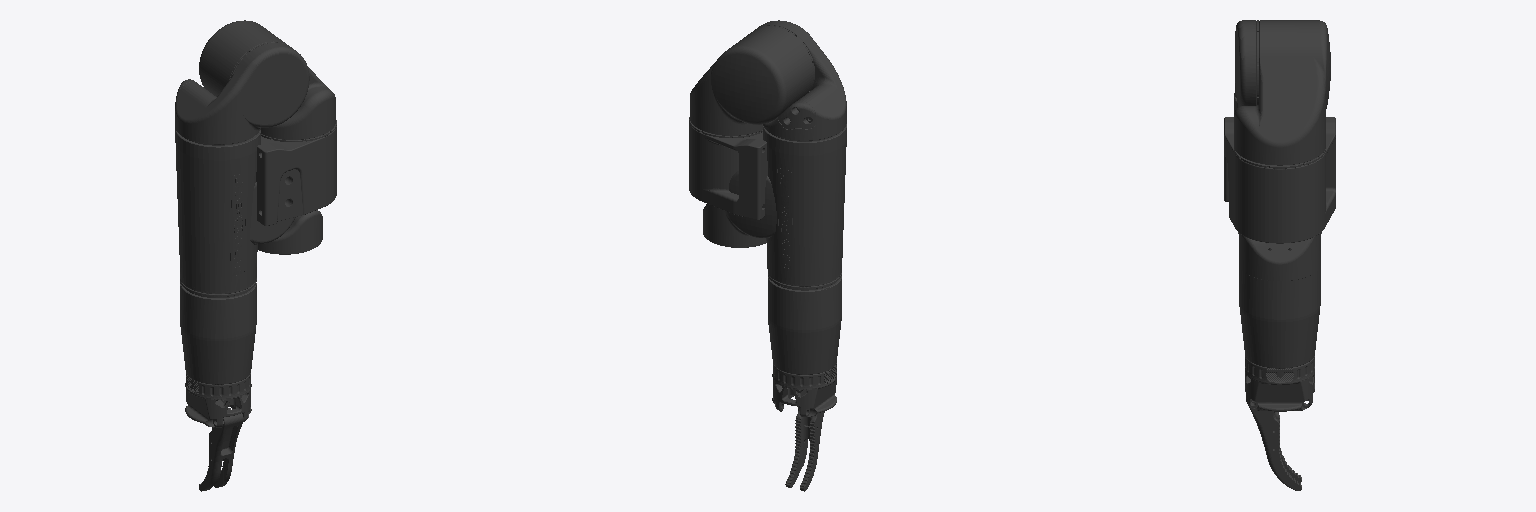
The robot description file, URDF, robot "bravo_7_example":
<?xml version="1.0" ?>
<!-- =================================================================================== -->
<!-- |    This document was autogenerated by xacro from bravo_7_example.urdf.xacro     | -->
<!-- |    EDITING THIS FILE BY HAND IS NOT RECOMMENDED                                 | -->
<!-- =================================================================================== -->
<robot name="bravo_7_example">
  <link name="base_link"/>
  <joint name="bravo_joint" type="fixed">
    <origin rpy="0 0 0" xyz="0 0 0"/>
    <parent link="base_link"/>
    <child link="bravo_base_link"/>
    <origin rpy="0 0 0" xyz="0 0 0"/>
  </joint>
  <material name="bravo_black">
    <color rgba="0.3 0.3 0.3 1"/>
  </material>
  <link name="bravo_base_link">
    <visual>
      <geometry>
        <mesh filename="package://bpl_bravo_description_mk2/meshes/1019 A.stl"/>
      </geometry>
      <material name="bravo_black"/>
    </visual>
    <collision>
      <geometry>
        <box size="0.0625 0.1112 0.088"/>
      </geometry>
      <origin rpy="0 0 0" xyz="0.03625 00 0.044"/>
    </collision>
    <collision>
      <geometry>
        <box size="0.050 0.080 0.060"/>
      </geometry>
      <origin rpy="0 0 0" xyz="0.025 -0.04556 0.03"/>
    </collision>
    <collision>
      <geometry>
        <cylinder length="0.0851" radius="0.046"/>
      </geometry>
      <origin rpy="0 0 0" xyz="0.0675 0 0.04255"/>
    </collision>
  </link>
  <joint name="bravo_axis_g" type="continuous">
    <parent link="bravo_base_link"/>
    <origin rpy="0 0 3.14159" xyz="0.0665 0 0.08"/>
    <axis xyz="0 0 -1"/>
    <child link="bravo_1019_end_link"/>
    <!-- <limit effort="0" velocity="0" lower="0.0" upper="6.3" /> -->
  </joint>
  <link name="bravo_1019_end_link">
    <visual>
      <geometry>
        <mesh filename="package://bpl_bravo_description_mk2/meshes/1019 B.stl"/>
      </geometry>
      <origin rpy="0 0 3.14159" xyz="0 0 0"/>
      <material name="bravo_black"/>
    </visual>
  </link>
  <joint name="bravo_f_base_joint" type="fixed">
    <parent link="bravo_1019_end_link"/>
    <origin rpy="0 0 0" xyz="0 0 0.0058"/>
    <child link="bravo_1013_base_link"/>
  </joint>
  <link name="bravo_1013_base_link">
    <visual>
      <geometry>
        <mesh filename="package://bpl_bravo_description_mk2/meshes/1013 A.stl"/>
      </geometry>
      <origin rpy="0 0 3.14159" xyz="0.0 00 0.0"/>
      <material name="bravo_black"/>
    </visual>
    <collision>
      <geometry>
        <cylinder length="0.0667" radius="0.046"/>
      </geometry>
      <origin rpy="0 0 0" xyz="0.0 0.0 0.03335"/>
    </collision>
    <collision>
      <geometry>
        <cylinder length="0.0738" radius="0.046"/>
      </geometry>
      <origin rpy="1.5707 0 0 " xyz="0.046 0.0149 0.0667"/>
    </collision>
  </link>
  <joint name="bravo_axis_f" type="revolute">
    <parent link="bravo_1013_base_link"/>
    <origin rpy="0 0 0" xyz="0.046 0 0.0667"/>
    <axis xyz="0 -1 0"/>
    <child link="bravo_1013_joint_link"/>
    <limit effort="0" lower="0.0" upper="3.2" velocity="0"/>
  </joint>
  <link name="bravo_1013_joint_link">
    <visual>
      <geometry>
        <mesh filename="package://bpl_bravo_description_mk2/meshes/1013 B.stl"/>
      </geometry>
      <material name="bravo_black"/>
      <origin rpy="0 0 3.14159" xyz="0.0 00 0.0"/>
    </visual>
    <collision>
      <geometry>
        <cylinder length="0.0228" radius="0.046"/>
      </geometry>
      <origin rpy="1.5707 0 0 " xyz="0 -0.0334 0"/>
    </collision>
    <collision>
      <geometry>
        <cylinder length="0.05094" radius="0.046"/>
      </geometry>
      <origin rpy="0 0 0" xyz="0.046 0 -0.02547"/>
    </collision>
  </link>
  <joint name="bravo_1013_end_joint" type="fixed">
    <parent link="bravo_1013_joint_link"/>
    <origin rpy="3.14159 0 3.14159" xyz="0.046 0 -0.05334"/>
    <child link="bravo_1013_end_link"/>
  </joint>
  <link name="bravo_1013_end_link"/>
  <joint name="bravo_e_base_joint" type="fixed">
    <parent link="bravo_1013_end_link"/>
    <origin rpy="0 0 0" xyz="0 0 0.182"/>
    <child link="bravo_1026_0_base_link"/>
  </joint>
  <link name="bravo_1026_0_base_link">
    <visual>
      <geometry>
        <mesh filename="package://bpl_bravo_description_mk2/meshes/RS2-1026-A.stl"/>
      </geometry>
      <material name="bravo_black"/>
    </visual>
    <collision>
      <geometry>
        <cylinder length="0.059" radius="0.0408"/>
      </geometry>
      <origin rpy="0 0 0" xyz="0 00 0.0295"/>
    </collision>
    <collision>
      <geometry>
        <cylinder length="0.0599" radius="0.0408"/>
      </geometry>
      <origin rpy="1.5707 0 0" xyz="0.0408 -0.01435 0.059"/>
    </collision>
  </link>
  <joint name="bravo_axis_e" type="revolute">
    <parent link="bravo_1026_0_base_link"/>
    <origin rpy="0 0 0" xyz="0.0408 0 0.059"/>
    <axis xyz="0 -1 0"/>
    <child link="bravo_1026_0_joint_link"/>
    <limit effort="0" lower="0.0" upper="3.2" velocity="0"/>
  </joint>
  <link name="bravo_1026_0_joint_link">
    <visual>
      <geometry>
        <mesh filename="package://bpl_bravo_description_mk2/meshes/RS2-1026-B.stl"/>
      </geometry>
      <material name="bravo_black"/>
    </visual>
    <collision>
      <geometry>
        <cylinder length="0.02335" radius="0.0408"/>
      </geometry>
      <origin rpy="1.5707 0 0" xyz="0 0.027275 0 "/>
    </collision>
    <collision>
      <geometry>
        <cylinder length="0.0851" radius="0.0408"/>
      </geometry>
      <origin rpy="0 0 0" xyz="0.0408 0 -0.0473"/>
    </collision>
  </link>
  <joint name="bravo_1026_0_end_joint" type="fixed">
    <parent link="bravo_1026_0_joint_link"/>
    <origin rpy="3.14159 0 0" xyz="0.0408 0 -0.08705"/>
    <child link="bravo_1026_0_end_link"/>
  </joint>
  <link name="bravo_1026_0_end_link"/>
  <joint name="bravo_d_base_joint" type="fixed">
    <parent link="bravo_1026_0_end_link"/>
    <origin rpy="0 0 0" xyz="0 0 0"/>
    <child link="bravo_1026_1_base_link"/>
  </joint>
  <link name="bravo_1026_1_base_link">
        </link>
  <joint name="bravo_axis_d" type="continuous">
    <parent link="bravo_1026_1_base_link"/>
    <origin rpy="0 0 0" xyz="0 0 0"/>
    <axis xyz="0 0 -1"/>
    <child link="bravo_1026_1_joint_link"/>
    <!-- <limit effort="0" velocity="0" lower="0" upper="6.2" /> -->
  </joint>
  <link name="bravo_1026_1_joint_link">
    <visual>
      <geometry>
        <mesh filename="package://bpl_bravo_description_mk2/meshes/RS2-1026-C.stl"/>
      </geometry>
      <material name="bravo_black"/>
      <origin rpy="0 0 0" xyz="0 0 0 "/>
    </visual>
    <collision>
      <geometry>
        <cylinder length="0.003" radius="0.0408"/>
      </geometry>
      <origin rpy="0 0 3.14159" xyz="0 0 0.000"/>
    </collision>
  </link>
  <joint name="bravo_1026_1_end_joint" type="fixed">
    <parent link="bravo_1026_1_joint_link"/>
    <origin rpy="0 0 3.14159" xyz="0 0 0.0054"/>
    <child link="bravo_1026_1_end_link"/>
  </joint>
  <link name="bravo_1026_1_end_link"/>
  <joint name="bravo_c_base_joint" type="fixed">
    <parent link="bravo_1026_1_end_link"/>
    <origin rpy="0 0 0" xyz="0 0 0.0"/>
    <child link="bravo_1023_0_base_link"/>
  </joint>
  <link name="bravo_1023_0_base_link">
    <visual>
      <geometry>
        <mesh filename="package://bpl_bravo_description_mk2/meshes/RS2-1023-A.stl"/>
      </geometry>
      <material name="bravo_black"/>
    </visual>
    <collision>
      <geometry>
        <cylinder length="0.059" radius="0.0408"/>
      </geometry>
      <origin rpy="0 0 0" xyz="0 00 0.0295"/>
    </collision>
    <collision>
      <geometry>
        <cylinder length="0.0599" radius="0.0408"/>
      </geometry>
      <origin rpy="1.5707 0 0" xyz="0.0408 -0.01435 0.059"/>
    </collision>
  </link>
  <joint name="bravo_axis_c" type="revolute">
    <parent link="bravo_1023_0_base_link"/>
    <origin rpy="0 0 0" xyz="0.0408 0 0.059"/>
    <axis xyz="0 -1 0"/>
    <child link="bravo_1023_0_joint_link"/>
    <limit effort="0" lower="0.0" upper="3.2" velocity="0"/>
  </joint>
  <link name="bravo_1023_0_joint_link">
    <visual>
      <geometry>
        <mesh filename="package://bpl_bravo_description_mk2/meshes/RS2-1023-B.stl"/>
      </geometry>
      <material name="bravo_black"/>
    </visual>
    <collision>
      <geometry>
        <cylinder length="0.02335" radius="0.0408"/>
      </geometry>
      <origin rpy="1.5707 0 0" xyz="0 0.027275 0 "/>
    </collision>
    <collision>
      <geometry>
        <cylinder length="0.0851" radius="0.0408"/>
      </geometry>
      <origin rpy="0 0 0" xyz="0.0408 0 -0.0473"/>
    </collision>
  </link>
  <joint name="bravo_1023_0_end_joint" type="fixed">
    <parent link="bravo_1023_0_joint_link"/>
    <origin rpy="3.14159 0 0" xyz="0.0408 0 -0.08705"/>
    <child link="bravo_1023_0_end_link"/>
  </joint>
  <link name="bravo_1023_0_end_link"/>
  <joint name="bravo_b_base_joint" type="fixed">
    <parent link="bravo_1023_0_end_link"/>
    <origin rpy="0 0 0" xyz="0 0 0"/>
    <child link="bravo_1023_1_base_link"/>
  </joint>
  <link name="bravo_1023_1_base_link">
        </link>
  <joint name="bravo_axis_b" type="continuous">
    <parent link="bravo_1023_1_base_link"/>
    <origin rpy="0 0 3.14159" xyz="0 0 0"/>
    <axis xyz="0 0 -1"/>
    <child link="bravo_1023_1_joint_link"/>
    <!--            <limit effort="0" velocity="0" lower="0.0" upper="0.0" />-->
  </joint>
  <link name="bravo_1023_1_joint_link">
    <visual>
      <geometry>
        <mesh filename="package://bpl_bravo_description_mk2/meshes/RS2-1023-C.stl"/>
      </geometry>
      <material name="bravo_black"/>
    </visual>
    <collision>
      <geometry>
        <cylinder length="0.003" radius="0.0408"/>
      </geometry>
      <origin rpy="0 0 0" xyz="0 0 0.0"/>
    </collision>
  </link>
  <joint name="bravo_1023_1_end_joint" type="fixed">
    <parent link="bravo_1023_1_joint_link"/>
    <origin rpy="0 0 0" xyz="0 0 0.0054"/>
    <child link="bravo_1023_1_end_link"/>
  </joint>
  <link name="bravo_1023_1_end_link"/>
  <joint name="bravo_a_base_joint" type="fixed">
    <parent link="bravo_1023_1_end_link"/>
    <origin rpy="0 0 0" xyz="0 0 0"/>
    <child link="bravo_1038_base_link"/>
  </joint>
  <link name="bravo_1038_base_link">
    <visual>
      <geometry>
        <mesh filename="package://bpl_bravo_description_mk2/meshes/1038.stl"/>
      </geometry>
      <material name="bravo_black"/>
    </visual>
    <collision>
      <geometry>
        <cylinder length="0.12535" radius="0.0408"/>
      </geometry>
      <origin rpy="0 0 0" xyz="0 0 0.06"/>
    </collision>
  </link>
  <joint name="bravo_1038_end_joint" type="fixed">
    <parent link="bravo_1038_base_link"/>
    <origin rpy="0 -1.5707 0" xyz="0 0 0.12535"/>
    <child link="bravo_1038_end_link"/>
  </joint>
  <link name="bravo_1038_end_link"/>
  <joint name="bravo_jaws_joint" type="fixed">
    <origin rpy="0 0 0" xyz=" 0 0 0.0"/>
    <parent link="bravo_1038_end_link"/>
    <child link="bravo_jaws_base_link"/>
  </joint>
  <link name="bravo_jaws_base_link">
    <!--        <visual>-->
    <!--            <geometry>-->
    <!--                <mesh filename="package://bpl_bravo_description/meshes/end_effectors/RS2-257.stl"/>-->
    <!--            </geometry>-->
    <!--            <material name="bravo_jaws_black"/>-->
    <!--            </visual>-->
  </link>
  <link name="bravo_push_rod"/>
  <joint name="bravo_axis_a" type="prismatic">
    <origin rpy="0 0 0" xyz="0 0 0.009"/>
    <parent link="bravo_jaws_base_link"/>
    <child link="bravo_push_rod"/>
    <axis xyz="0 0 1"/>
    <limit effort="10" lower="0" upper="0.01" velocity="10"/>
  </joint>
  <link name="bravo_1030_base_link">
    <visual>
      <geometry>
        <mesh filename="package://bpl_bravo_description_mk2/meshes/1030.stl"/>
      </geometry>
      <material name="bravo_black"/>
    </visual>
    <collision>
      <geometry>
        <cylinder length="0.03033333" radius="0.046"/>
      </geometry>
      <origin rpy="0 0 0" xyz="0 0 0.01516666"/>
    </collision>
    <collision>
      <geometry>
        <cylinder length="0.03033333" radius="0.045"/>
      </geometry>
      <origin rpy="0 0 0" xyz="0 0 0.0455"/>
    </collision>
    <collision>
      <geometry>
        <cylinder length="0.03033333" radius="0.044"/>
      </geometry>
      <origin rpy="0 0 0" xyz="0 0 0.075833333"/>
    </collision>
    <collision>
      <geometry>
        <cylinder length="0.03033333" radius="0.043"/>
      </geometry>
      <origin rpy="0 0 0" xyz="0 0 0.1061666666"/>
    </collision>
    <collision>
      <geometry>
        <cylinder length="0.03033333" radius="0.042"/>
      </geometry>
      <origin rpy="0 0 0" xyz="0 0 0.1365"/>
    </collision>
    <collision>
      <geometry>
        <cylinder length="0.03033333" radius="0.041"/>
      </geometry>
      <origin rpy="0 0 0" xyz="0 0 0.1668333"/>
    </collision>
  </link>
  <joint name="bravo_1030_base_joint" type="fixed">
    <parent link="bravo_1013_end_link"/>
    <child link="bravo_1030_base_link"/>
    <origin rpy="0 0 0" xyz="0 0 0"/>
  </joint>
  <material name="bravo_finger_jaws_black">
    <color rgba="0.3 0.3 0.3 1"/>
  </material>
  <joint name="bravo_finger_jaws_joint" type="fixed">
    <origin rpy="0 0 0" xyz="0 0 0"/>
    <parent link="bravo_jaws_base_link"/>
    <child link="bravo_finger_jaws_base_link"/>
    <origin rpy="0 0 0" xyz="0 0 0"/>
  </joint>
  <link name="bravo_finger_jaws_base_link">
    <visual>
      <geometry>
        <mesh filename="package://bpl_bravo_description_mk2/meshes/RS2-257.stl"/>
      </geometry>
      <material name="bravo_finger_jaws_black"/>
    </visual>
    <collision>
      <geometry>
        <cylinder length="0.037" radius="0.0355"/>
      </geometry>
      <origin rpy="0 1.5707 0" xyz="0.0123 0 0"/>
    </collision>
  </link>
  <link name="bravo_finger_jaws_rs2_300_link">
    <visual>
      <geometry>
        <mesh filename="package://bpl_bravo_description_mk2/meshes/RS2-300.stl"/>
      </geometry>
      <material name="bravo_finger_jaws_black"/>
    </visual>
    <collision>
      <geometry>
        <box size="0.124 0.035 0.042"/>
      </geometry>
      <origin rpy="0 0 2.78554548618295" xyz="0.0595 -0.0267 0"/>
    </collision>
  </link>
  <joint name="bravo_finger_jaws_rs2_300_joint" type="revolute">
    <origin rpy="0 0 0" xyz="0.0241 0.0268 0"/>
    <axis xyz="0 0 1"/>
    <parent link="bravo_finger_jaws_base_link"/>
    <child link="bravo_finger_jaws_rs2_300_link"/>
    <limit effort="10" lower="0" upper="1.0" velocity="10"/>
    <mimic joint="bravo_axis_a" multiplier="54" offset="0"/>
  </joint>
  <link name="bravo_finger_jaws_rs2_301_link">
    <visual>
      <geometry>
        <mesh filename="package://bpl_bravo_description_mk2/meshes/RS2-301.stl"/>
      </geometry>
      <material name="bravo_finger_jaws_black"/>
    </visual>
    <collision>
      <geometry>
        <box size="0.124 0.035 0.042"/>
      </geometry>
      <origin rpy="0 0 -2.78554548618295" xyz="0.0595 0.0267 0"/>
    </collision>
  </link>
  <joint name="bravo_finger_jaws_rs2_301_joint" type="revolute">
    <origin rpy="0 0 0" xyz="0.0241 -0.0268 0"/>
    <axis xyz="0 0 -1"/>
    <parent link="bravo_finger_jaws_base_link"/>
    <child link="bravo_finger_jaws_rs2_301_link"/>
    <limit effort="10" lower="0" upper="1.0" velocity="10"/>
    <mimic joint="bravo_finger_jaws_rs2_300_joint" multiplier="1" offset="0"/>
  </joint>
</robot>

--- What the picture shows (computed from the rendered views, not written in the file) ---
Views: 3 orthographic renders of the robot side by side, from view 1: azimuth 30°, elevation 25°; view 2: azimuth 150°, elevation 25°; view 3: azimuth 270°, elevation 25°.
Robot: bravo_7_example — 26 links, 25 joints (5 revolute, 3 continuous, 1 prismatic, 16 fixed); root link base_link; default pose: every joint at zero.
Links seen in each view (by area): view 1: bravo_1030_base_link, bravo_1013_joint_link, bravo_1038_base_link, bravo_base_link, bravo_1013_base_link, bravo_finger_jaws_rs2_300_link, bravo_1023_0_base_link, bravo_finger_jaws_base_link, bravo_1023_0_joint_link; view 2: bravo_1030_base_link, bravo_1013_base_link, bravo_1038_base_link, bravo_base_link, bravo_1013_joint_link, bravo_1023_0_base_link, bravo_finger_jaws_rs2_300_link, bravo_finger_jaws_base_link; view 3: bravo_1013_base_link, bravo_base_link, bravo_1038_base_link, bravo_1023_0_base_link, bravo_finger_jaws_base_link, bravo_1013_joint_link, bravo_finger_jaws_rs2_300_link.
Boxes of the visible links, box(x1,y1,x2,y2) form: bravo_1030_base_link: box(175, 129, 260, 297); bravo_1013_joint_link: box(175, 43, 309, 145); bravo_1038_base_link: box(180, 282, 256, 399); bravo_base_link: box(256, 120, 336, 225); bravo_1013_base_link: box(199, 20, 335, 139); bravo_finger_jaws_rs2_300_link: box(199, 408, 243, 491); bravo_1023_0_base_link: box(258, 210, 322, 254); bravo_finger_jaws_base_link: box(185, 389, 251, 427); bravo_1023_0_joint_link: box(184, 182, 295, 292); bravo_1030_base_link: box(763, 124, 846, 290); bravo_1013_base_link: box(690, 25, 814, 135); bravo_1038_base_link: box(768, 276, 841, 389); bravo_base_link: box(689, 117, 767, 219); bravo_1013_joint_link: box(758, 20, 846, 141); bravo_1023_0_base_link: box(703, 171, 776, 247); bravo_finger_jaws_rs2_300_link: box(785, 407, 824, 491); bravo_finger_jaws_base_link: box(772, 379, 836, 416); bravo_1013_base_link: box(1234, 20, 1330, 165); bravo_base_link: box(1224, 117, 1335, 243); bravo_1038_base_link: box(1239, 266, 1320, 384); bravo_1023_0_base_link: box(1239, 233, 1320, 280); bravo_finger_jaws_base_link: box(1245, 373, 1314, 411); bravo_1013_joint_link: box(1235, 20, 1256, 106); bravo_finger_jaws_rs2_300_link: box(1246, 393, 1301, 490).
Bounding box of the posed robot: 0.185 × 0.1112 × 0.5314 m (x, y, z).
11 mesh visuals loaded from 15 distinct referenced files (11 binary STL); not drawn: 4 (reference not matched to a file when rendering).